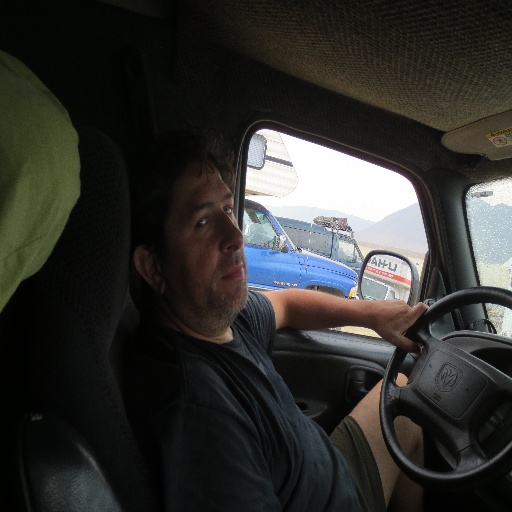hand: (360, 298, 430, 354)
